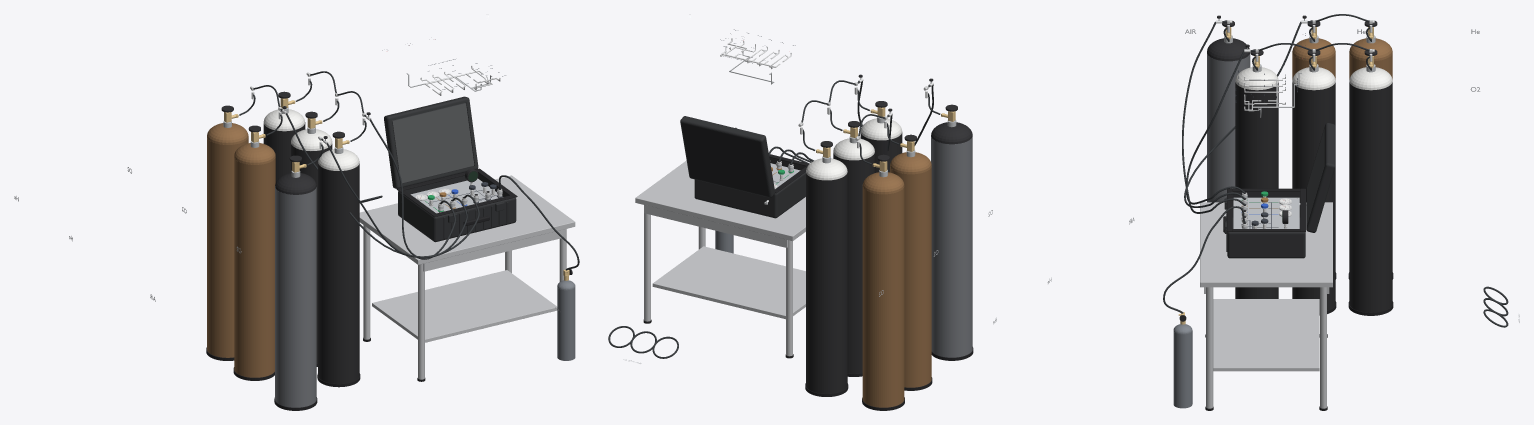
Rendered from panel.glb.
3 views of the same model, side by side, from view 1: azimuth 30°, elevation 25°; view 2: azimuth 150°, elevation 25°; view 3: azimuth 270°, elevation 25° (orthographic). The views are drawn at different scales.
Visible parts, largest first — view 1: PM-03_C1_body, PM-01_C3_body, PM-02_C2_body, Bench_shelf, PM-02_C1_body, Bench_top, LidFoam, CaseBody, Lid, FillCyl, Bench_apron_f, Plate (+13 smaller); view 2: PM-02_C1_body, PM-03_C1_body, PM-01_C1_body, Bench_shelf, PM-02_C2_body, Lid, Bench_top, PM-01_C2_body, CaseBody, Bench_apron_b, Bench_leg3, Bench_leg4 (+7 smaller); view 3: PM-01_C1_body, Bench_shelf, Bench_top, PM-01_C3_body, PM-01_C2_body, PM-03_C1_body, CaseBody, Plate, FillCyl, Lid, Bench_leg2, Bench_leg4 (+13 smaller).
Part boxes in pixels (x1,y1,x2,y2): PM-03_C1_body: (275, 186, 316, 407); PM-01_C3_body: (318, 162, 359, 383); PM-02_C2_body: (234, 157, 275, 377); Bench_shelf: (372, 270, 557, 342); PM-02_C1_body: (207, 136, 248, 357); Bench_top: (359, 175, 575, 264); LidFoam: (392, 103, 474, 183); CaseBody: (398, 173, 516, 242); Lid: (384, 96, 478, 188); FillCyl: (557, 287, 575, 360); Bench_apron_f: (423, 229, 565, 271); Plate: (410, 178, 502, 213); PM-02_C1_body: (862, 186, 904, 407); PM-03_C1_body: (931, 136, 972, 357); PM-01_C1_body: (806, 172, 847, 393); Bench_shelf: (652, 246, 805, 319); PM-02_C2_body: (890, 166, 931, 387); Lid: (680, 116, 774, 197); Bench_top: (635, 160, 805, 241); PM-01_C2_body: (833, 152, 874, 373); CaseBody: (694, 157, 805, 218); Bench_apron_b: (644, 205, 787, 247); Bench_leg3: (786, 240, 792, 356); Bench_leg4: (644, 205, 650, 321); PM-01_C1_body: (1349, 82, 1392, 312); Bench_shelf: (1213, 299, 1319, 371); Bench_top: (1200, 202, 1332, 287); PM-01_C3_body: (1235, 82, 1278, 298); PM-01_C2_body: (1292, 82, 1335, 311); PM-03_C1_body: (1207, 53, 1250, 202); CaseBody: (1227, 192, 1305, 258); Plate: (1233, 197, 1299, 228); FillCyl: (1173, 330, 1192, 408); Lid: (1306, 123, 1335, 232); Bench_leg2: (1206, 287, 1213, 408); Bench_leg4: (1320, 287, 1326, 408).
Bounding box in the file's own units: 2.71 × 1.86 × 1.88.
